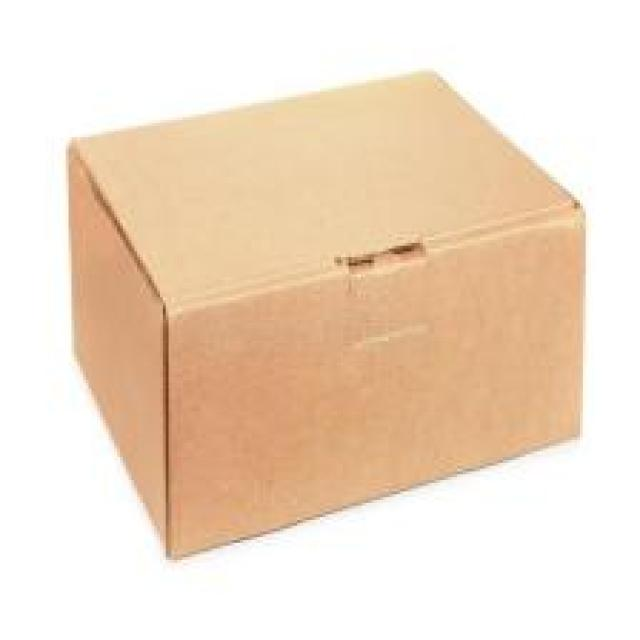box: (65, 69, 592, 562)
